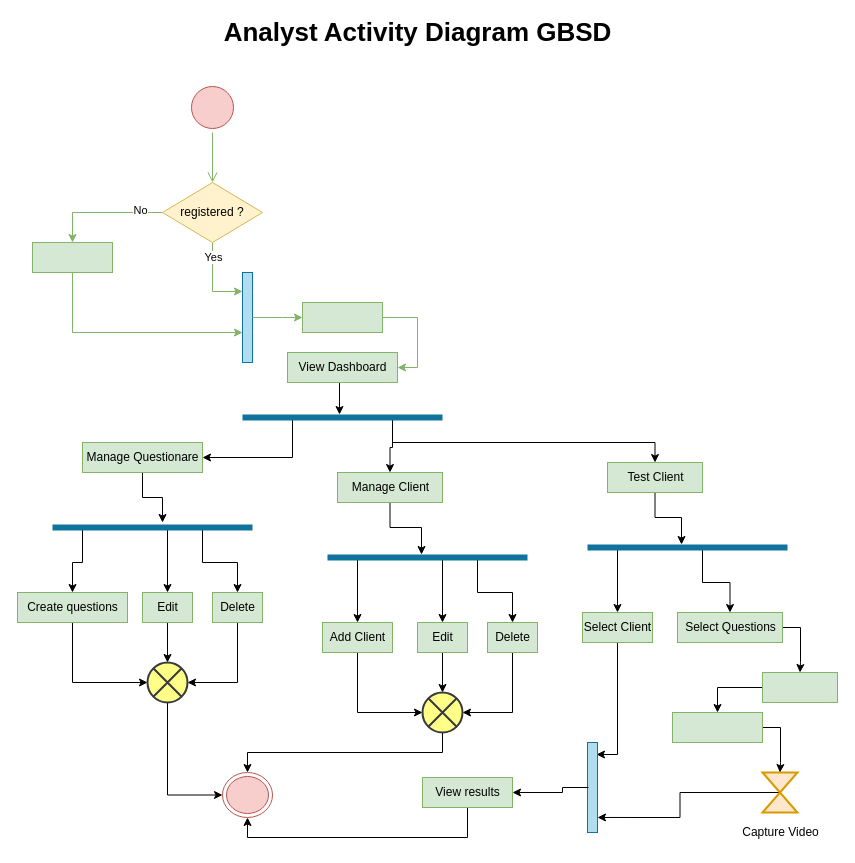
Image size: 855x863. Some labels were removed from this diagram. Here are the shapes that lost their labels. From the top down, the centre of each, then its label:
At point 72,257: "Sign up".
At point 342,317: "Login".
At point 800,687: "start timer".
At point 717,727: "Open camera".
